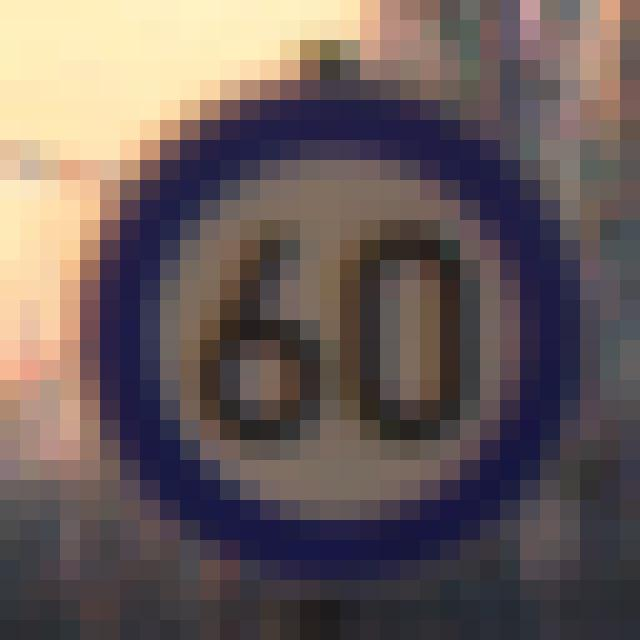SPEED-LIMIT-60: (73, 59, 588, 584)
